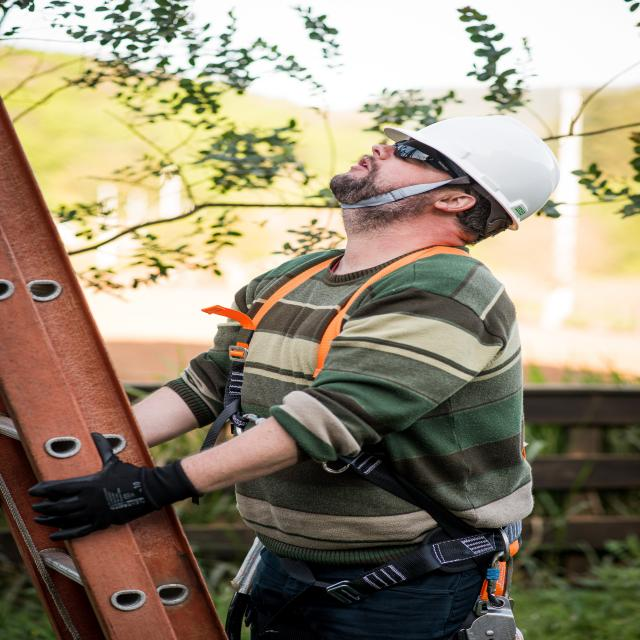capacete: (382, 114, 566, 237)
corda de vida: (198, 242, 543, 640)
luva: (27, 428, 210, 542)
